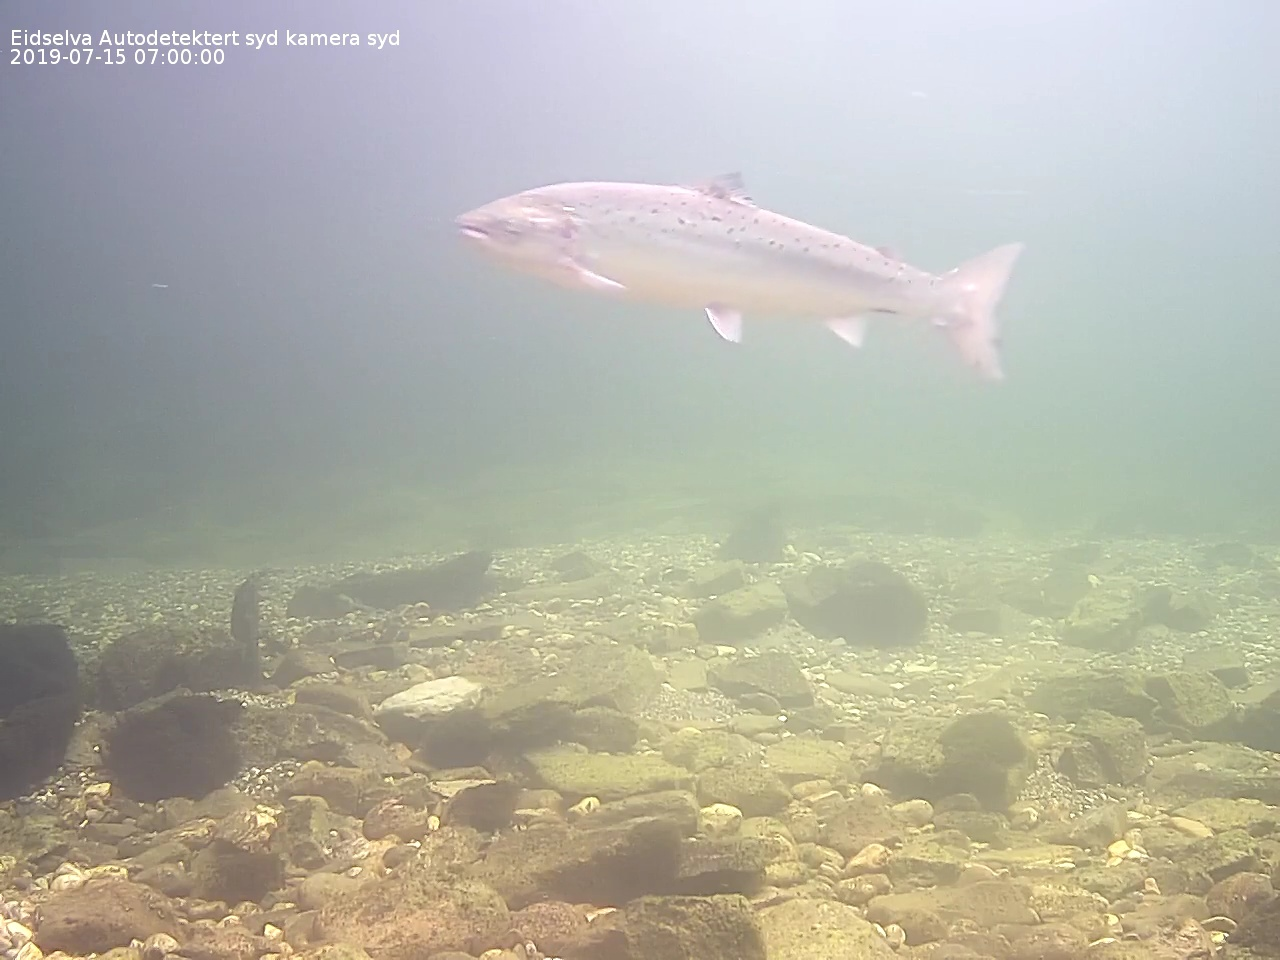salmon: (449, 164, 1028, 394)
